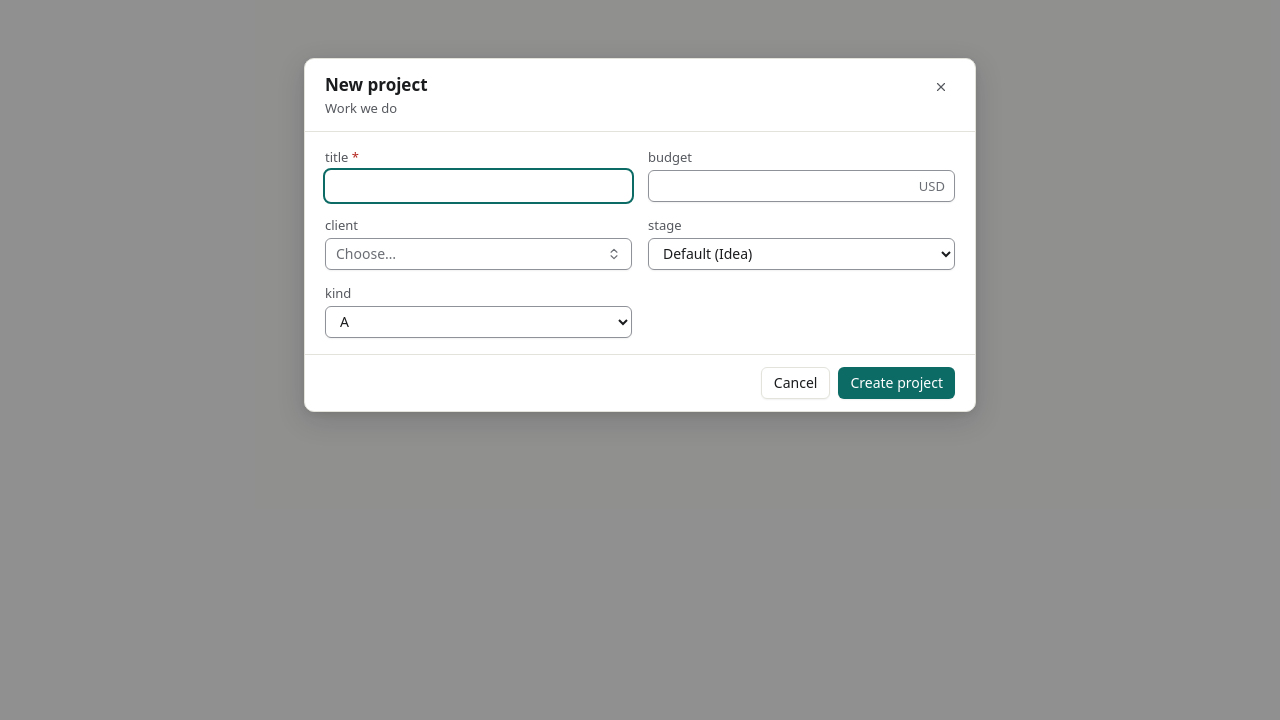
Test: create record form › checks required values before sending, then puts the server's messages on their fields
Click the button "Create project": {"x": 897, "y": 383} x1=838 y1=367 x2=955 y2=399
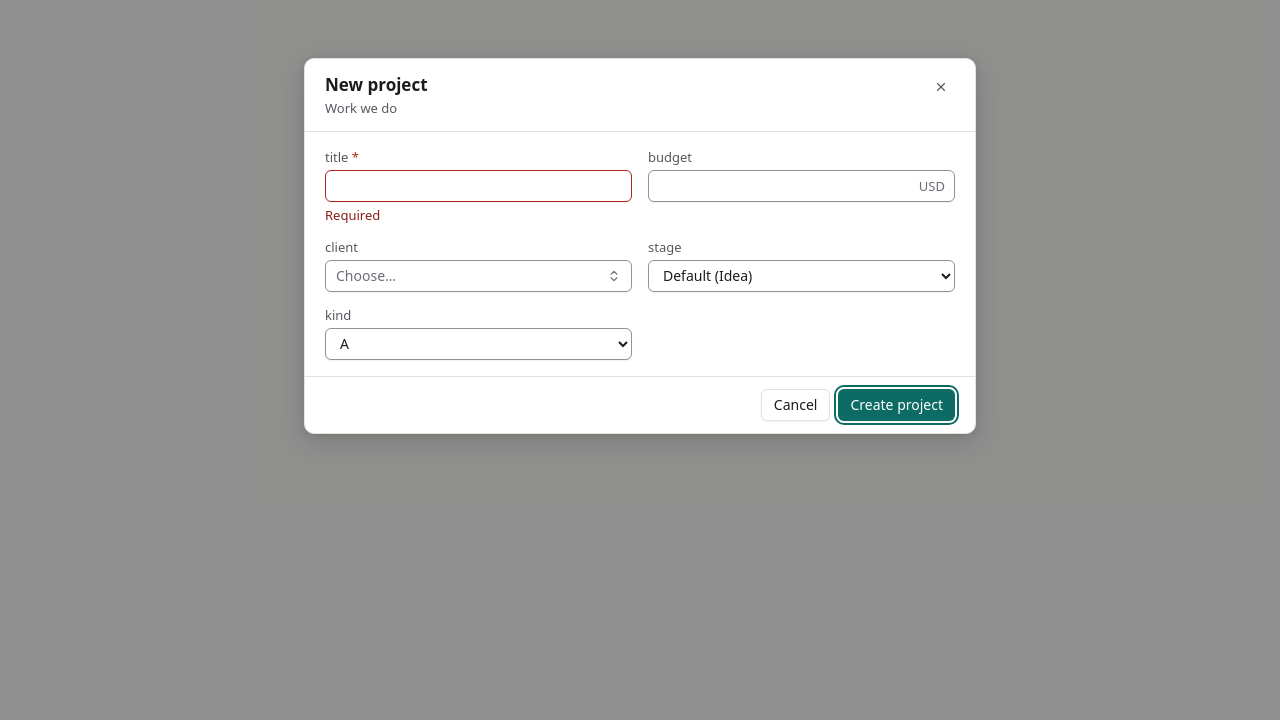
Check: the text "Required" is shown, box x1=325 y1=206 x2=380 y2=224
In the field labelled "title *": {"x": 478, "y": 186} x1=325 y1=170 x2=632 y2=202, type "Website"
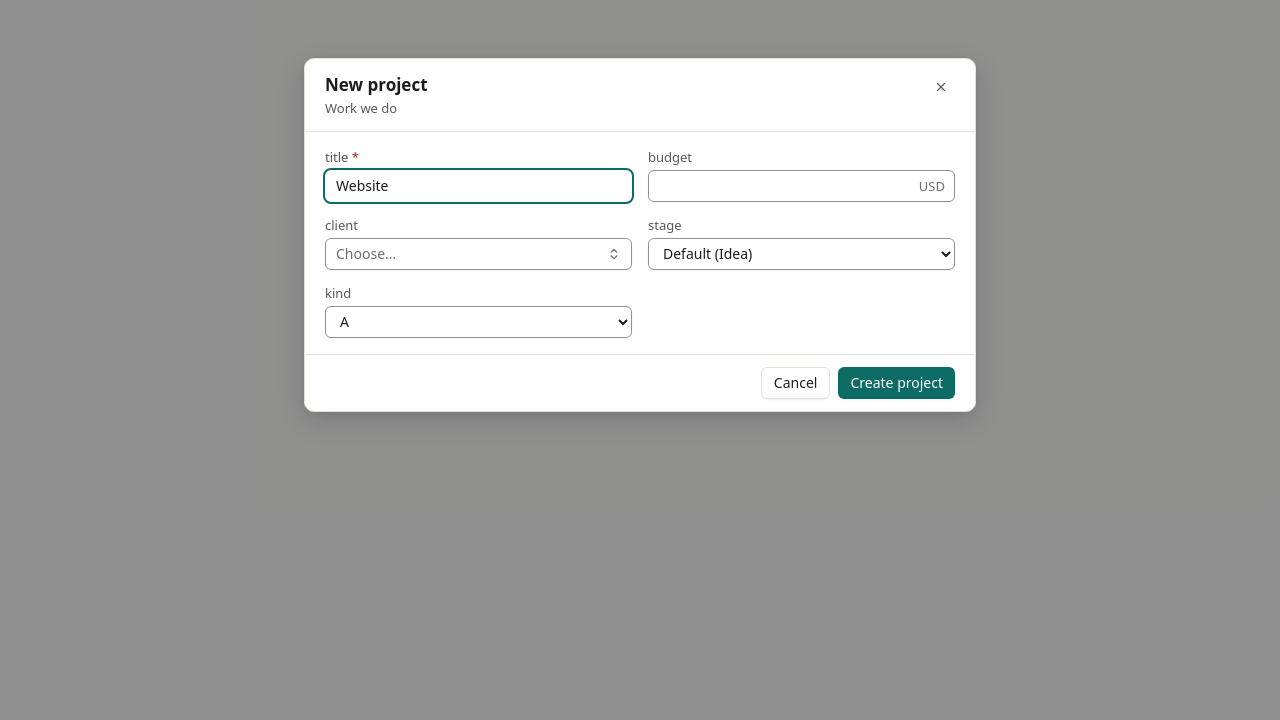
In the field labelled "budget": {"x": 802, "y": 186} x1=648 y1=170 x2=955 y2=202, type "5"
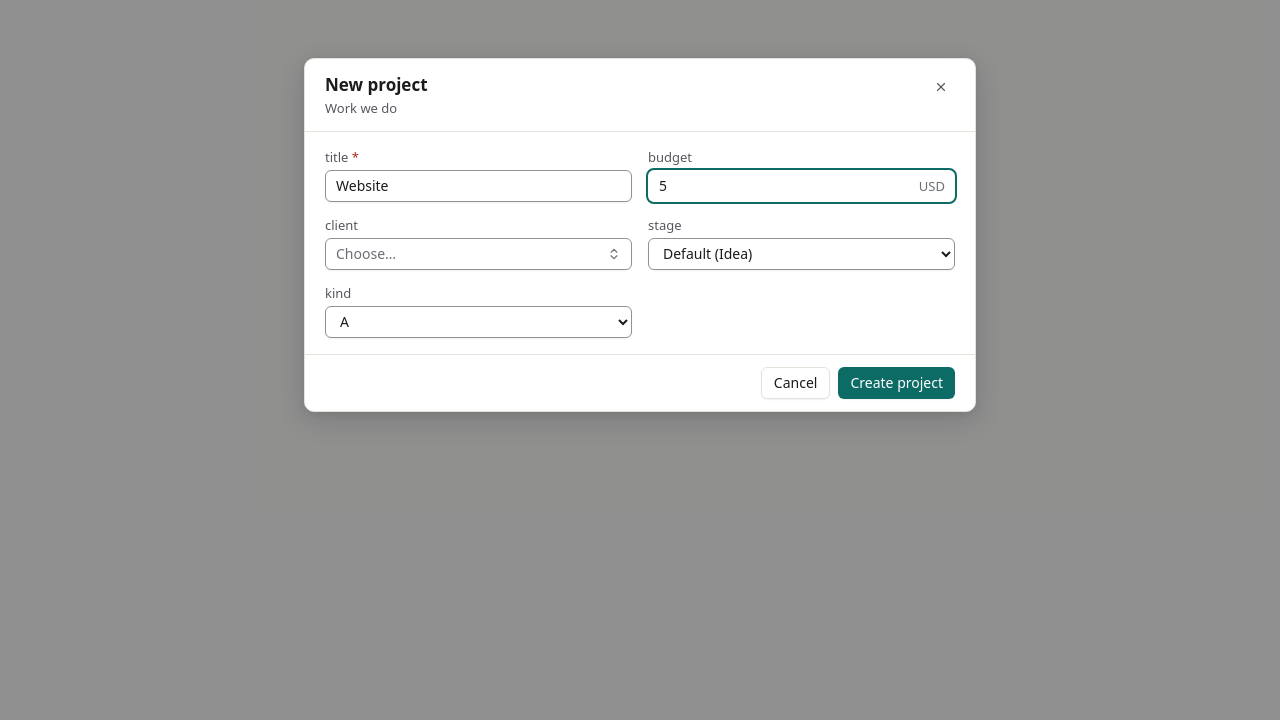
Click the button "Create project": {"x": 897, "y": 383} x1=838 y1=367 x2=955 y2=399
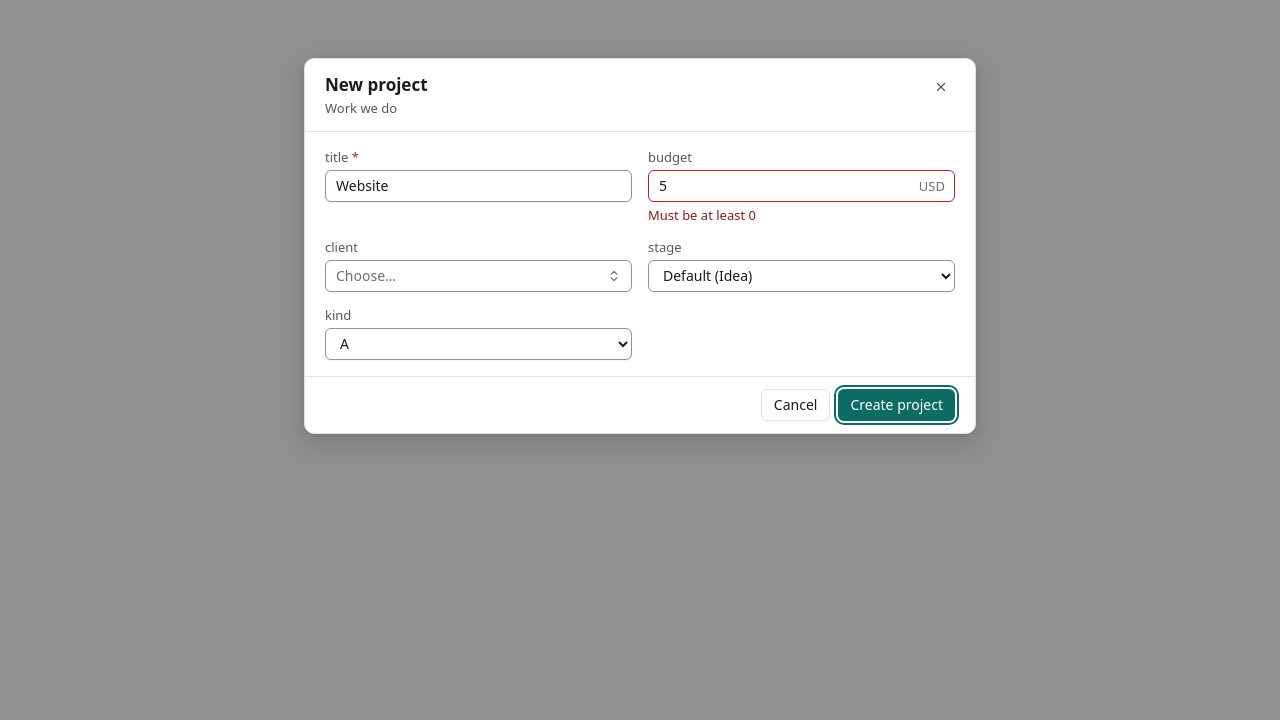
Check: the text "Must be at least 0" is shown, box x1=648 y1=206 x2=756 y2=224
